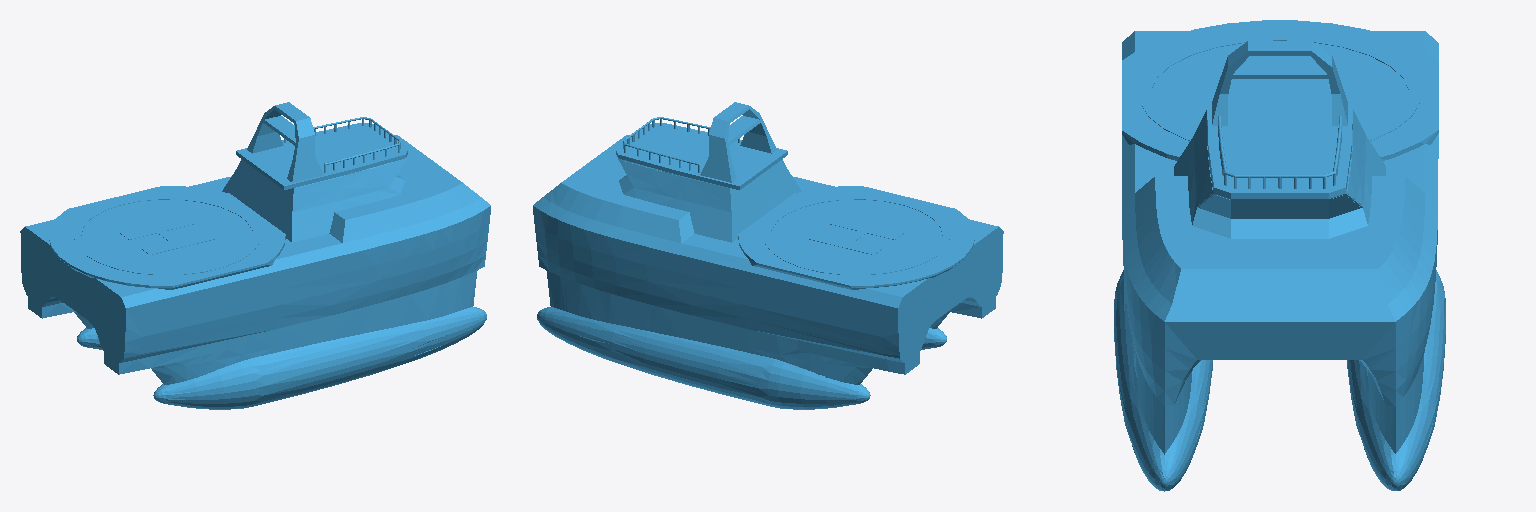
URDF robot description (prius):
<?xml version="1.0"?>
<robot xmlns:xacro="http://ros.org/wiki/xacro" name="prius">

  <link name="map">
    <inertial>
      <mass value="1"/>
      <inertia ixx="0.001" ixy="0.0" ixz="0.0" iyy="0.001" iyz="0.0" izz="0.001"/>
    </inertial>
  </link>
  <joint name="base_link" type="fixed">
    <parent link="map"/>
    <child link="asv/base_link"/>
    <origin xyz="0 0 0" rpy="0 0 0"/>
    <axis xyz="0 0 0"/>
  </joint>

  <link name="asv/base_link">
    <visual>
      <origin xyz="-0.5 0 0" rpy="0 0 0"/>
      <geometry>
        <mesh filename="package://asv_yolo_description/models/yolo_asv_base/mesh/Hull.STL"/>
      </geometry>
    </visual>

    <collision name="asv/base_link">
      <origin xyz="0.0 0.05 0.625" rpy="0 0 0"/>
      <geometry>
        <box size="1.7526 2.1 0.95"/>
      </geometry>
    </collision>
  </link>
</robot>

--- Facts derived from the render (not from the file) ---
Views: 3 orthographic renders of the robot side by side, from view 1: azimuth 30°, elevation 25°; view 2: azimuth 150°, elevation 25°; view 3: azimuth 270°, elevation 25°.
Model prius with 2 links and 1 joints (1 fixed), rooted at map, posed all joints at 0.
Links seen in each view (by area): view 1: asv/base_link; view 2: asv/base_link; view 3: asv/base_link.
Link boxes in pixels (<box>): asv/base_link: <box>20,102,490,409</box>; asv/base_link: <box>533,102,1003,409</box>; asv/base_link: <box>1114,20,1445,491</box>.
Bounding box of the posed robot: 1.02 × 0.5041 × 0.6135 m (x, y, z).
Meshes: 1 distinct files referenced, 1 mesh visuals loaded (1 binary STL).